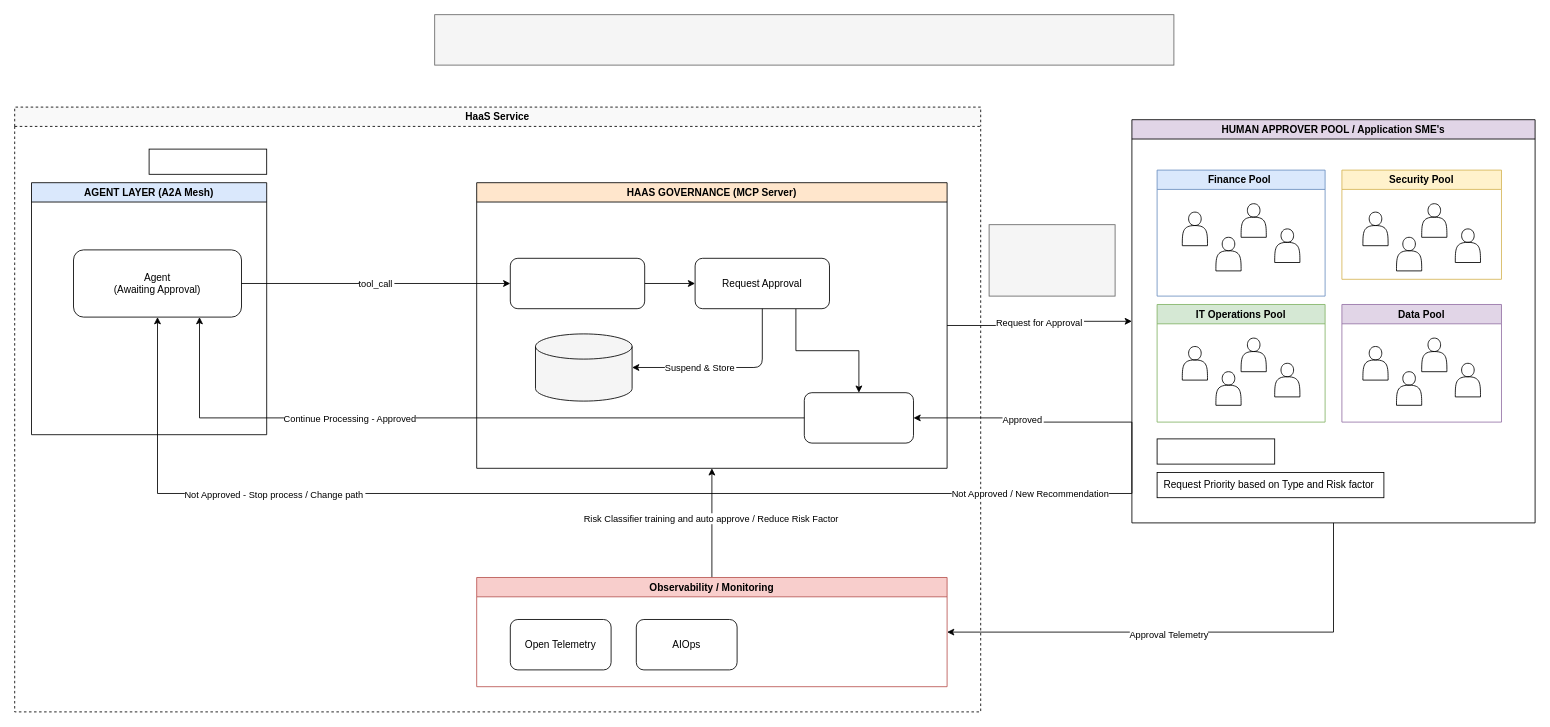
Image size: 1550x727. Some labels were removed from this diagram. Each missing label, with the centre of its shape:
"Agent Consume" belongs at point (207, 161).
"Decentralized Single / Multi Approval Pattern - Based on Risk" belongs at point (1051, 260).
"Different Tiered Pools" belongs at point (1215, 451).
"Human As a Service (HaaS) - Agent Rick Classification and Trigger Human Approval" belongs at point (804, 39).
"Pending Task Store (Redis/Postgres)" belongs at point (583, 367).
"Risk Classifier" belongs at point (577, 283).
"Sync Wait" belongs at point (858, 417).
